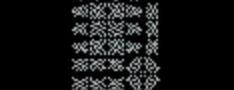cobwebT: (106, 38, 126, 56), (125, 55, 143, 73), (125, 72, 143, 90), (144, 55, 162, 73), (107, 19, 125, 37), (106, 1, 125, 18), (106, 56, 126, 72), (143, 73, 161, 90), (125, 20, 143, 36), (145, 18, 161, 36), (144, 0, 160, 18), (90, 0, 106, 18), (90, 19, 106, 37), (90, 38, 106, 56), (89, 74, 107, 90), (72, 74, 89, 90), (72, 56, 89, 72), (125, 2, 143, 17), (72, 2, 89, 17), (108, 75, 125, 90), (125, 38, 143, 52), (146, 37, 160, 55), (89, 57, 107, 71), (72, 22, 88, 37), (72, 39, 88, 53)
